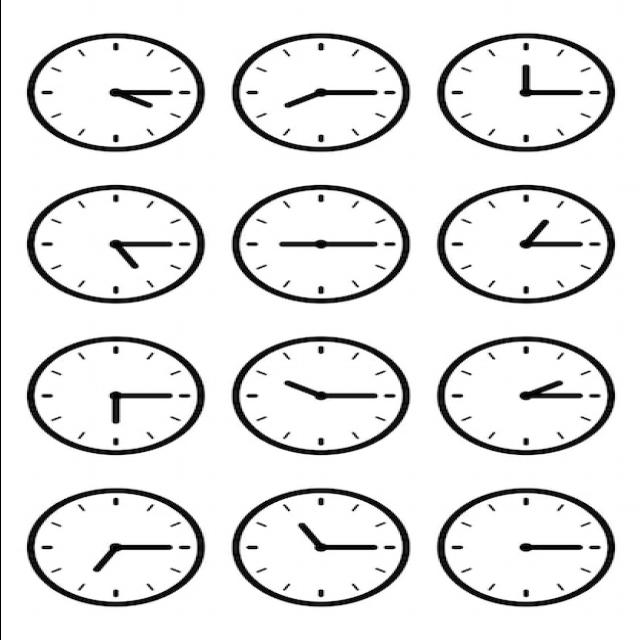clock: (199, 318, 625, 606)
